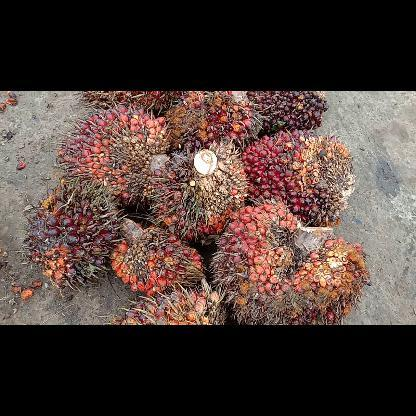TBS masak: (216, 202, 370, 322), (57, 106, 172, 204), (240, 130, 352, 228), (147, 142, 249, 244), (24, 186, 122, 284), (115, 218, 208, 290), (165, 91, 257, 149), (108, 286, 226, 324), (244, 91, 330, 133), (78, 92, 208, 115)
